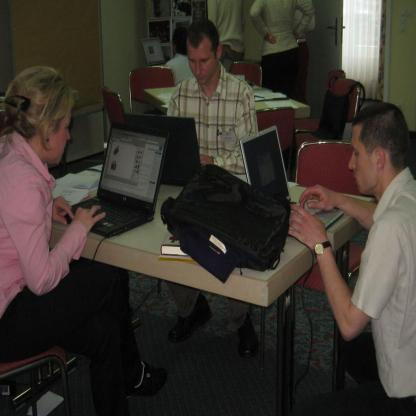board: (65, 123, 169, 238), (240, 127, 344, 230), (123, 113, 201, 185)
